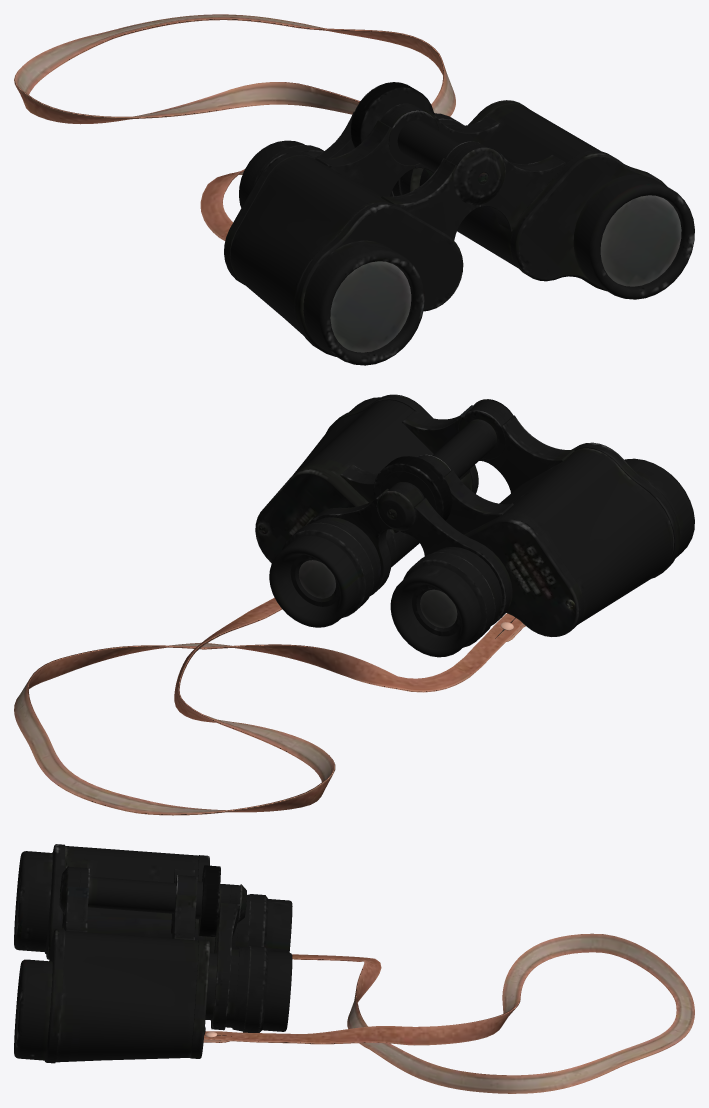
File: binoculars.glb
3 renders of one model, top to bottom at view 1: azimuth 30°, elevation 25°; view 2: azimuth 150°, elevation 25°; view 3: azimuth 270°, elevation 25°, orthographic. The views are drawn at different scales.
Parts seen in each view (by area): view 1: binoculars_left, binoculars_strap; view 2: binoculars_left, binoculars_strap; view 3: binoculars_left, binoculars_strap.
Part boxes in pixels (x1,y1,x2,y2): binoculars_left: (224,82,694,365); binoculars_strap: (14,14,455,240); binoculars_left: (255,394,694,657); binoculars_strap: (14,597,525,815); binoculars_left: (14,844,292,1063); binoculars_strap: (203,933,694,1093).
Size of the model in its own units: 0.1669 by 0.0663 by 0.2879.
Materials: 2 (2 with a texture image).
